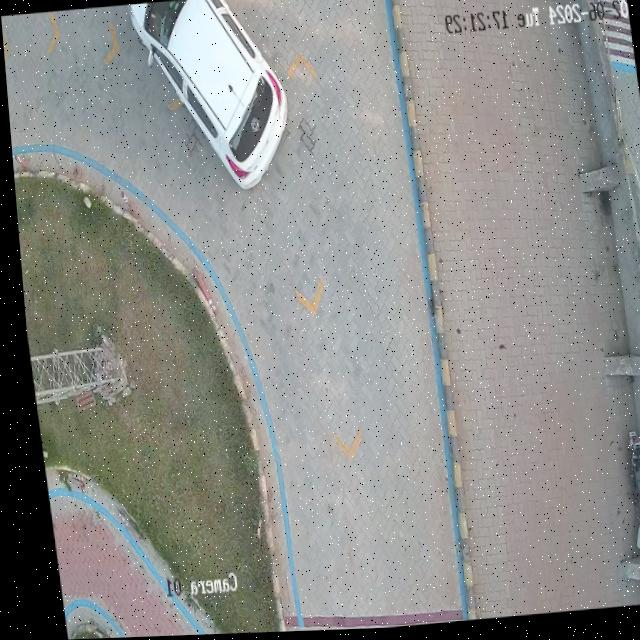car: (130, 0, 286, 190)
